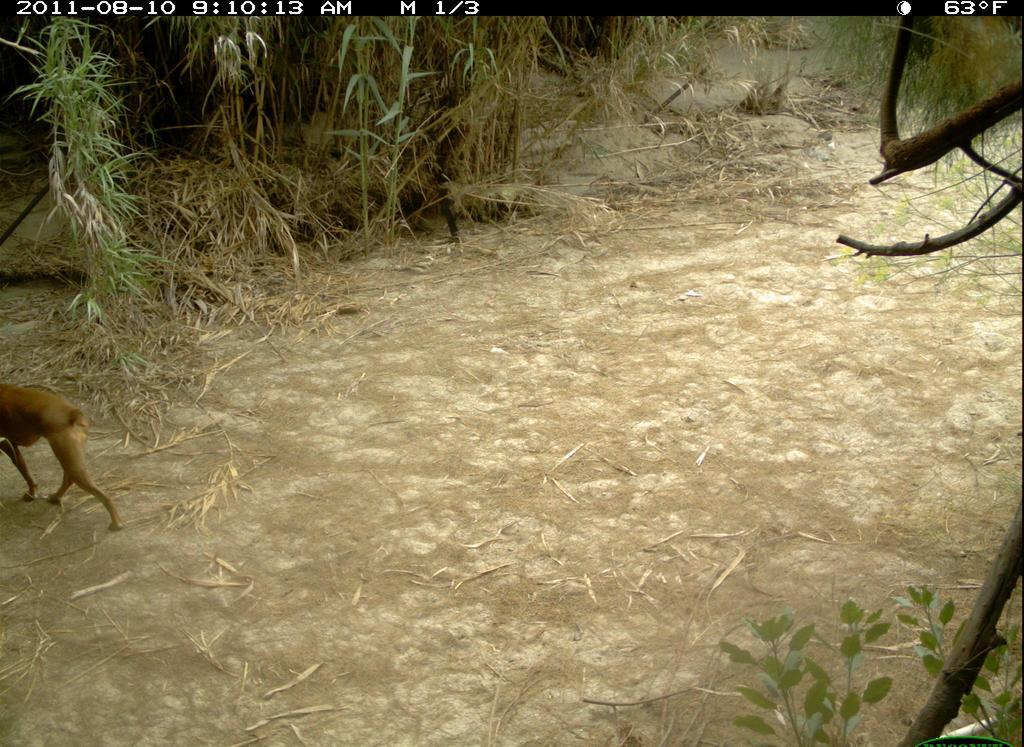dog: (3, 379, 152, 547)
